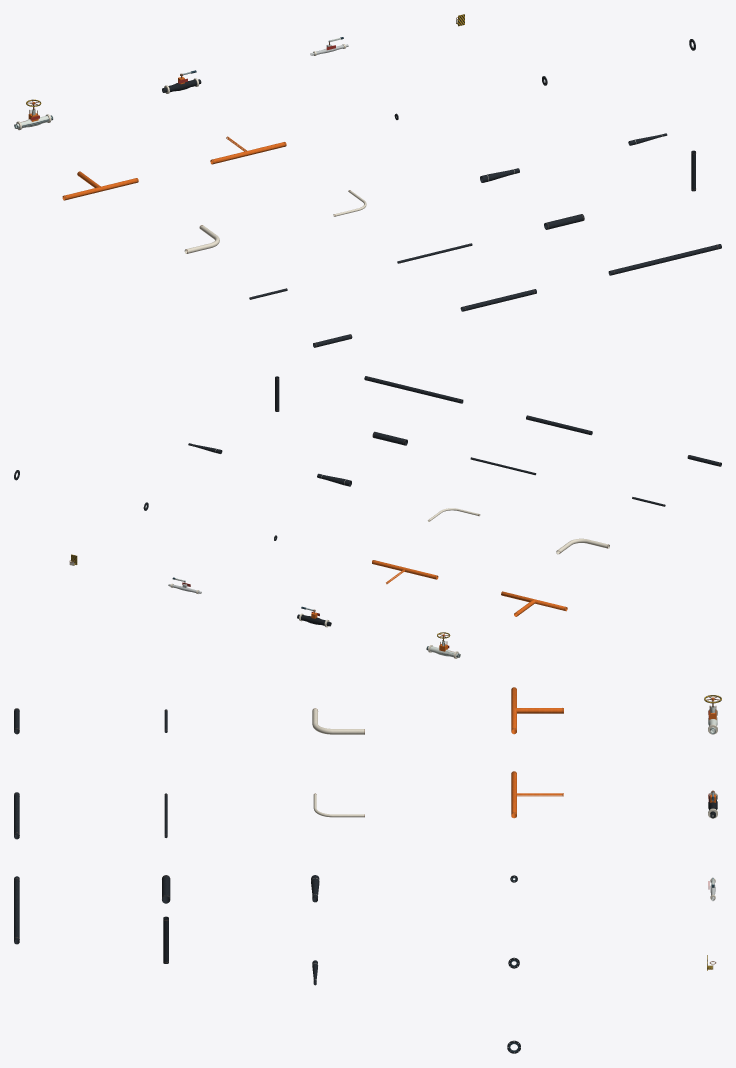
Rendered from PROJECT_Z_Industrial_Pipe_Valve_Kit.glb.
3 renders of one model, top to bottom at view 1: azimuth 30°, elevation 25°; view 2: azimuth 150°, elevation 25°; view 3: azimuth 270°, elevation 25°, orthographic. The views are drawn at different scales.
Visible parts, largest first — view 1: Pipe_DN100_3M_HollowWall, Tee_DN100_BR100_TRUE_HollowConnectedManifold; view 2: Pipe_DN100_3M_HollowWall; view 3: no part large enough to name.
Part boxes in pixels (left/top/right/bottom): Pipe_DN100_3M_HollowWall: left=608, top=244, right=721, bottom=275; Tee_DN100_BR100_TRUE_HollowConnectedManifold: left=62, top=171, right=138, bottom=200; Pipe_DN100_3M_HollowWall: left=364, top=376, right=463, bottom=403.
Size of the model in its own units: 17.03 by 1.14 by 14.24.
1 material, 1 textured.
